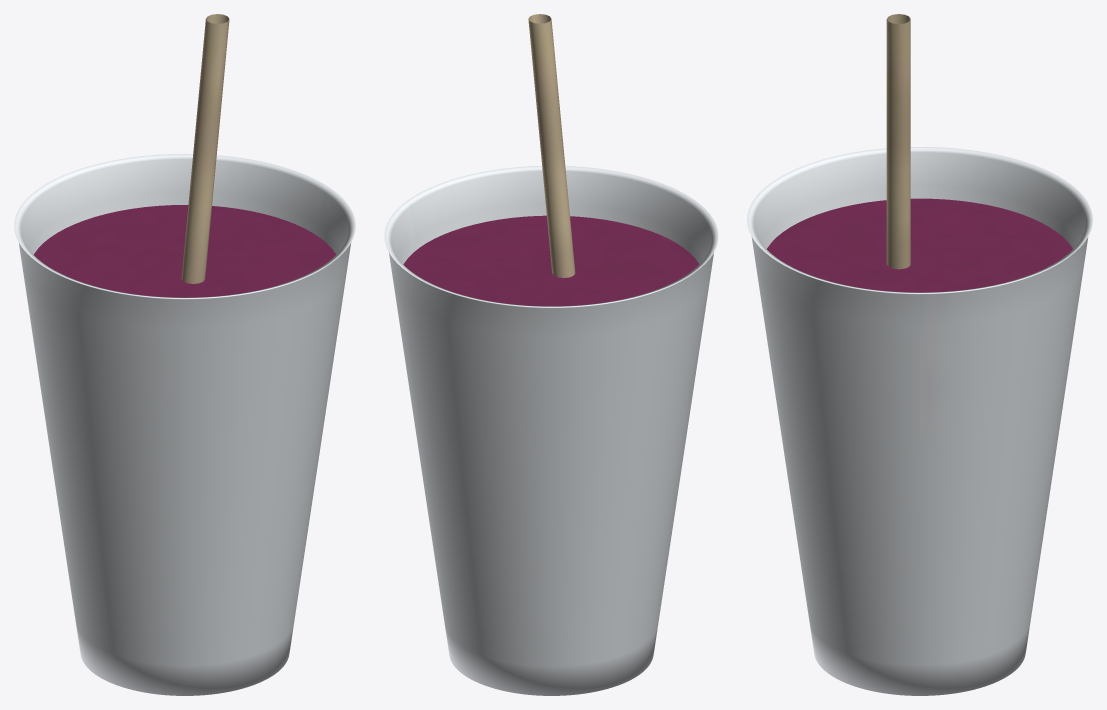
Rendered from longevity-breeze.glb.
The picture shows the model from 3 angles, left to right: view 1: azimuth 30°, elevation 25°; view 2: azimuth 150°, elevation 25°; view 3: azimuth 270°, elevation 25°; orthographic projection. The views are drawn at different scales.
Parts seen in each view (by area): view 1: clear, gloss, satin; view 2: clear, gloss, satin; view 3: clear, gloss, satin.
Boxes of the visible parts, bbox=[...] form: clear: bbox=[14, 153, 355, 695]; gloss: bbox=[34, 205, 335, 297]; satin: bbox=[181, 14, 229, 283]; clear: bbox=[384, 166, 718, 695]; gloss: bbox=[403, 215, 699, 306]; satin: bbox=[528, 14, 575, 277]; clear: bbox=[747, 147, 1092, 695]; gloss: bbox=[767, 198, 1072, 292]; satin: bbox=[886, 14, 910, 269].
Size of the model in its own units: 0.098 by 0.201 by 0.098.
Materials: 3 (3 with a texture image).
